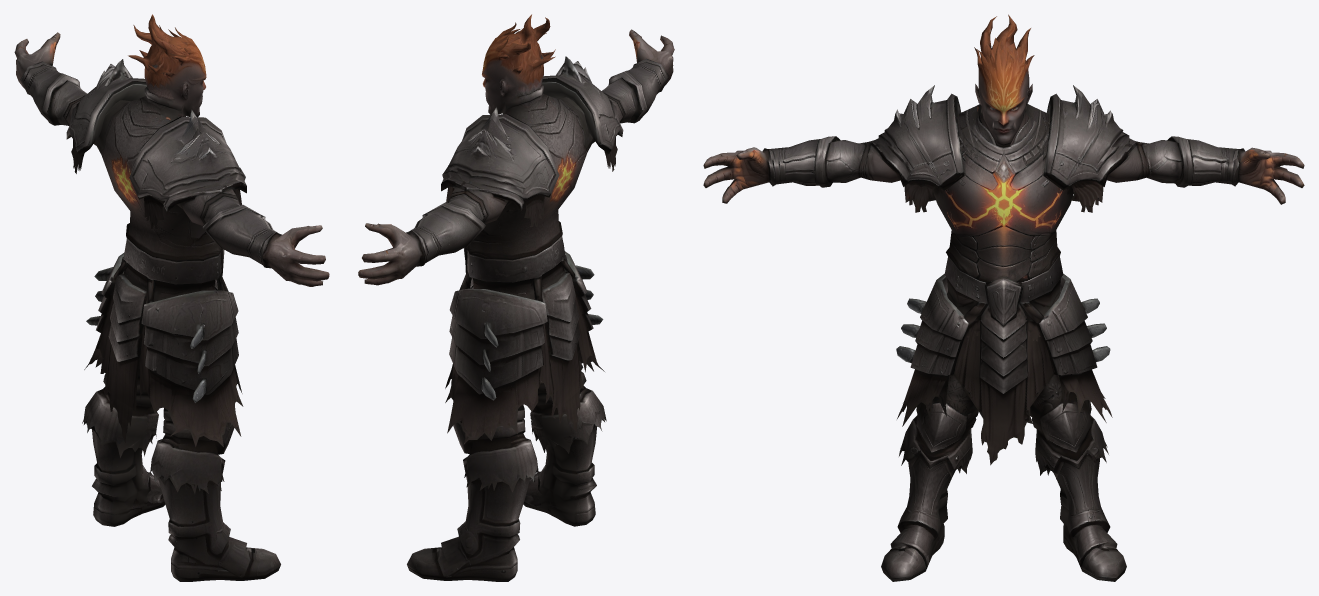
Rendered from brand.glb.
3 views of the same model, side by side, from view 1: azimuth 30°, elevation 25°; view 2: azimuth 150°, elevation 25°; view 3: azimuth 270°, elevation 25° (orthographic).
Parts seen in each view (by area): view 1: tripo_node_3ec632bf-9f4f-409b-9a58-2a01983e5a0b; view 2: tripo_node_3ec632bf-9f4f-409b-9a58-2a01983e5a0b; view 3: tripo_node_3ec632bf-9f4f-409b-9a58-2a01983e5a0b.
Boxes of the visible parts, left/top/right/bottom form: tripo_node_3ec632bf-9f4f-409b-9a58-2a01983e5a0b: left=14, top=14, right=329, bottom=581; tripo_node_3ec632bf-9f4f-409b-9a58-2a01983e5a0b: left=358, top=14, right=674, bottom=581; tripo_node_3ec632bf-9f4f-409b-9a58-2a01983e5a0b: left=703, top=14, right=1304, bottom=581.
Bounding box in the file's own units: 0.2285 × 0.9785 × 0.998.
1 material, 1 textured.
